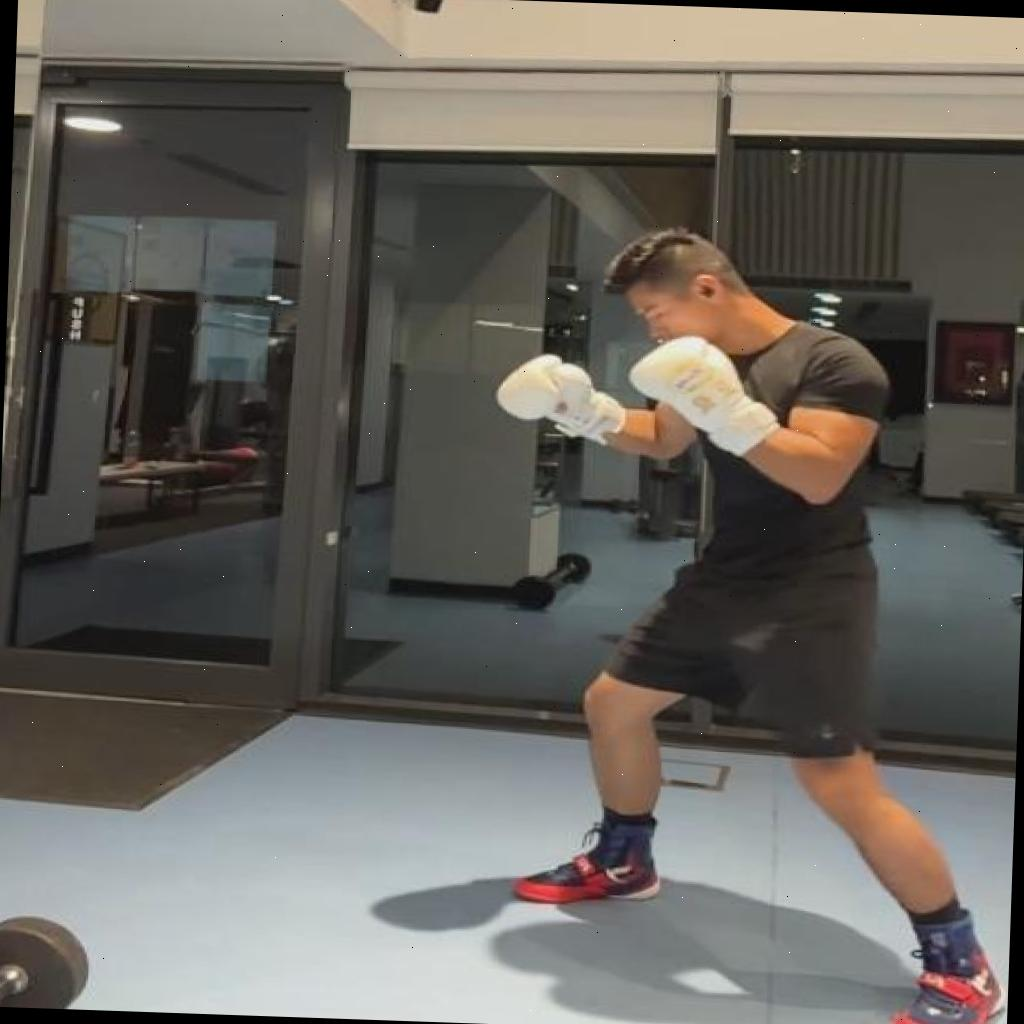no punch: (475, 227, 1024, 1024)
